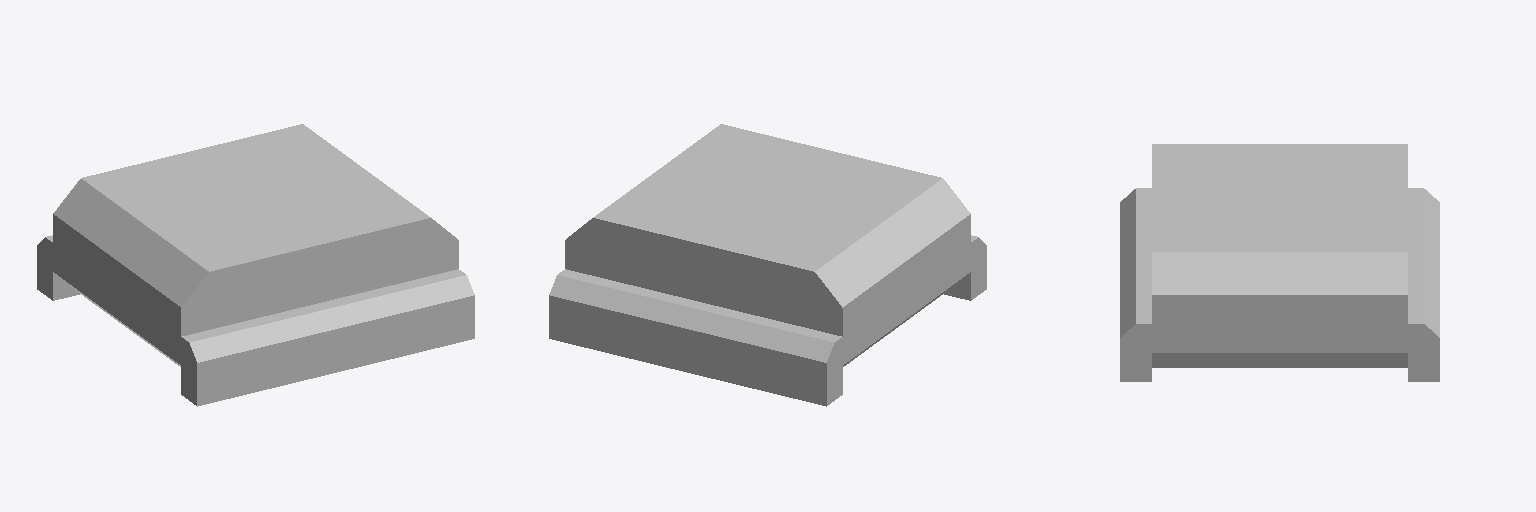
File: conveyor-sides.obj
The picture shows the model from 3 angles: view 1: azimuth 30°, elevation 25°; view 2: azimuth 150°, elevation 25°; view 3: azimuth 270°, elevation 25°; orthographic projection.
Visible parts, largest first — view 1: Group; view 2: Group; view 3: Group.
Part boxes in pixels (left/top/right/bottom): Group: left=37, top=124, right=474, bottom=406; Group: left=549, top=124, right=986, bottom=406; Group: left=1120, top=144, right=1439, bottom=381.
Bounding box in the file's own units: 1 × 0.4 × 1.